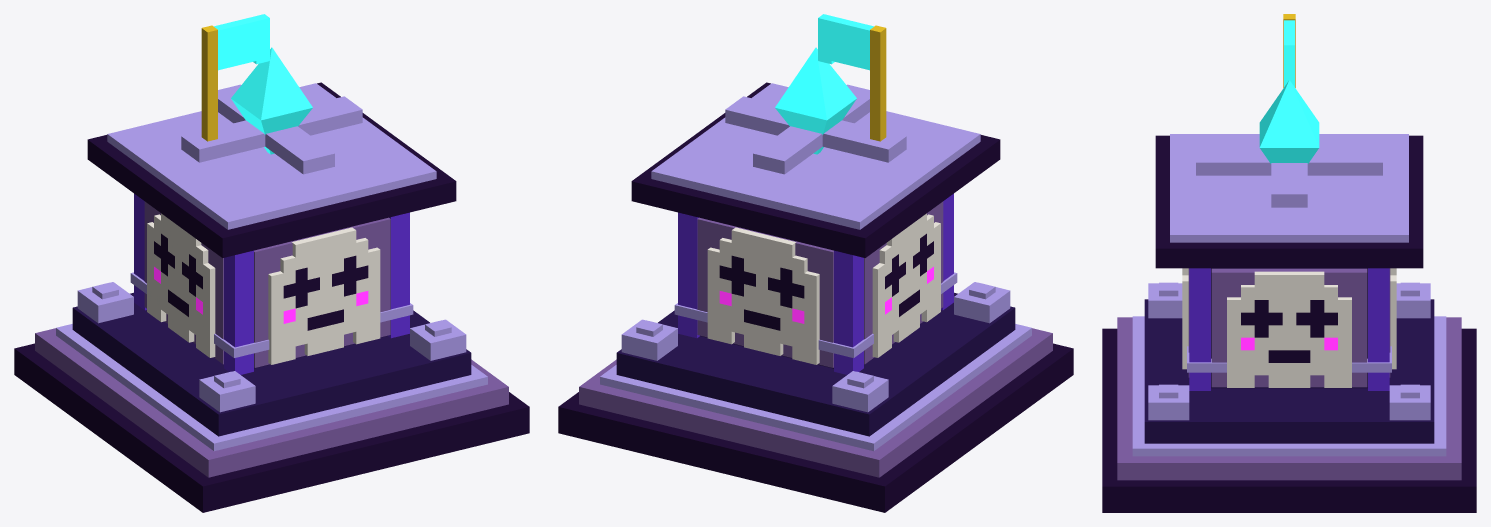
Rendered from trail-tier-1.glb.
3 views of the same model, side by side, from view 1: azimuth 30°, elevation 25°; view 2: azimuth 150°, elevation 25°; view 3: azimuth 270°, elevation 25° (orthographic).
Parts seen in each view (by area): view 1: base-ink, base-lavender, base-deep, base-stone, base-cream, base-purple, crown-lavender, crown-teal, crown-gold; view 2: base-ink, base-lavender, base-deep, base-stone, base-cream, base-purple, crown-lavender, crown-teal, crown-gold; view 3: base-lavender, base-ink, base-deep, base-stone, base-cream, crown-lavender, base-purple, crown-teal.
Part boxes in pixels (x1,y1,x2,y2): base-ink: (14,82,529,512); base-lavender: (56,83,487,451); base-deep: (72,292,471,436); base-stone: (35,201,508,477); base-cream: (147,213,380,364); base-purple: (134,193,409,374); crown-lavender: (181,84,362,174); crown-teal: (214,14,312,154); crown-gold: (201,25,217,141); base-ink: (558,82,1073,512); base-lavender: (600,83,1031,451); base-deep: (616,292,1015,436); base-stone: (579,201,1052,477); base-cream: (707,213,940,364); base-purple: (678,193,953,374); crown-lavender: (725,84,906,174); crown-teal: (775,14,873,154); crown-gold: (870,25,886,141); base-lavender: (1132,134,1446,456); base-ink: (1102,135,1476,512); base-deep: (1144,268,1434,443); base-stone: (1117,268,1461,480); base-cream: (1182,268,1396,387); crown-lavender: (1196,147,1382,207); base-purple: (1189,268,1389,390); crown-teal: (1259,20,1319,163).
Size of the model in its own units: 3.1 by 3.54 by 3.1.
